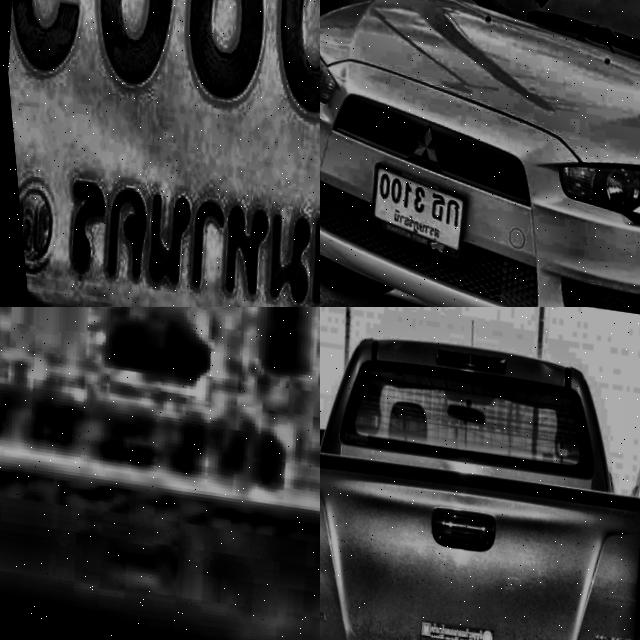license-plate: (0, 307, 320, 635), (0, 0, 320, 307), (351, 154, 472, 262)
